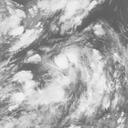cyclone: (35, 43, 97, 96)
